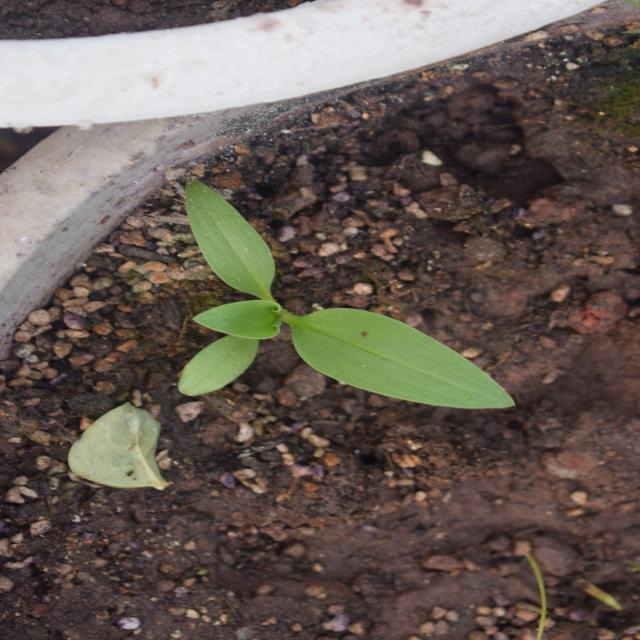Common Dayflower: (190, 122, 412, 511)
